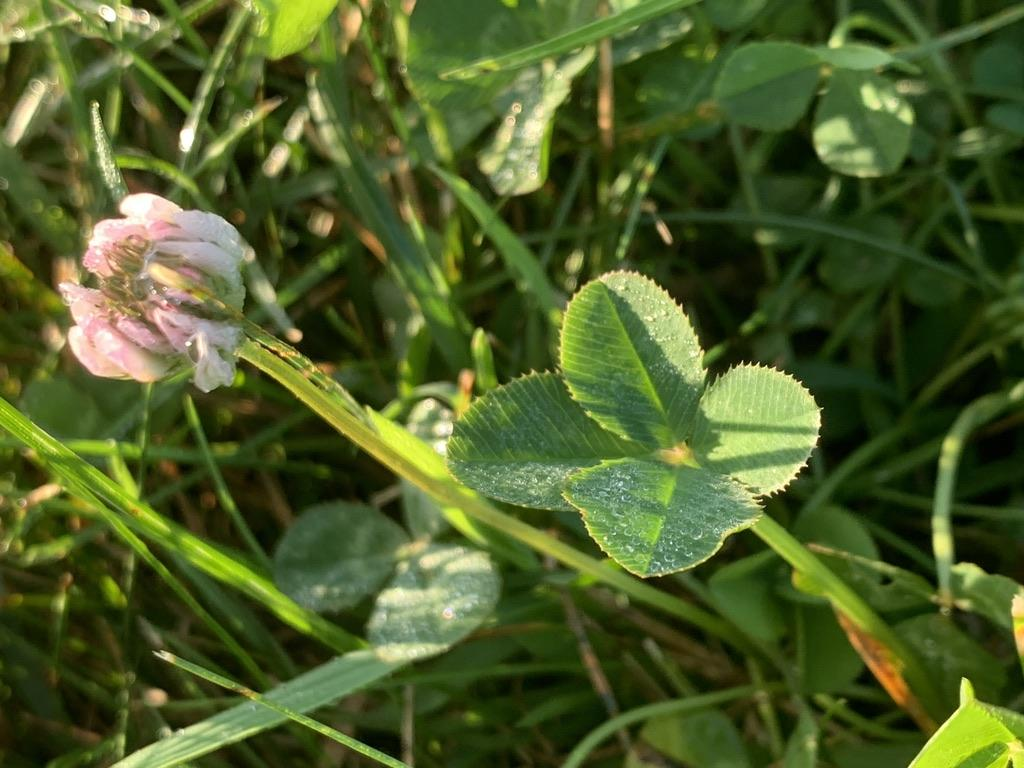4-Leaf-Clovers: (363, 152, 766, 422)
